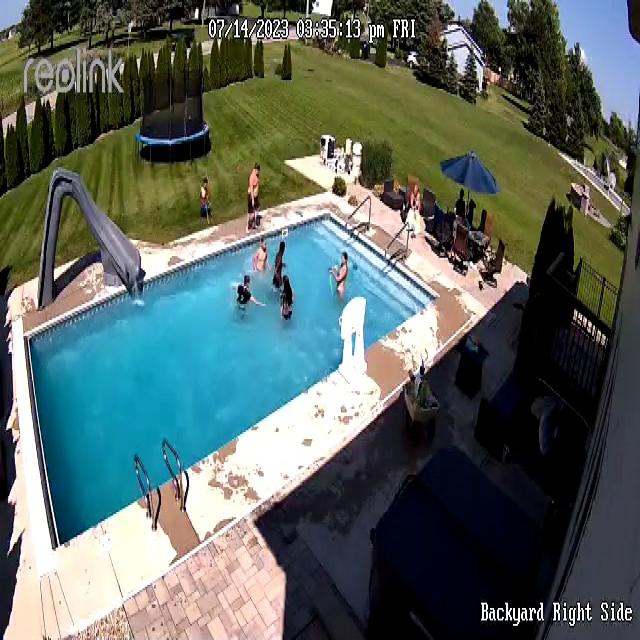adult: (231, 270, 265, 318), (330, 249, 348, 297), (248, 159, 259, 231), (280, 274, 295, 322), (272, 240, 286, 290), (253, 236, 269, 278)
child: (198, 176, 215, 219)
